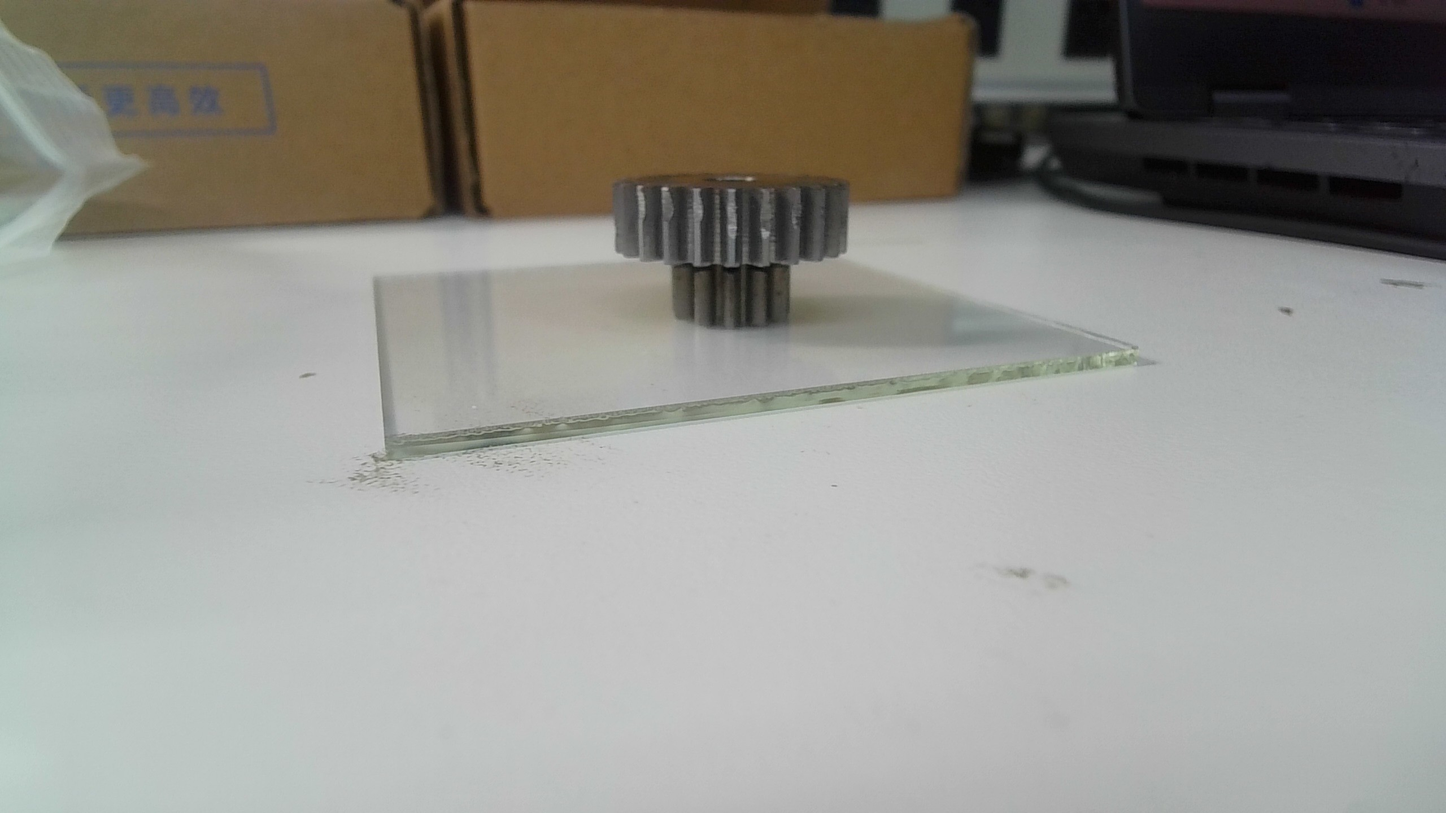gear: (611, 169, 852, 332)
